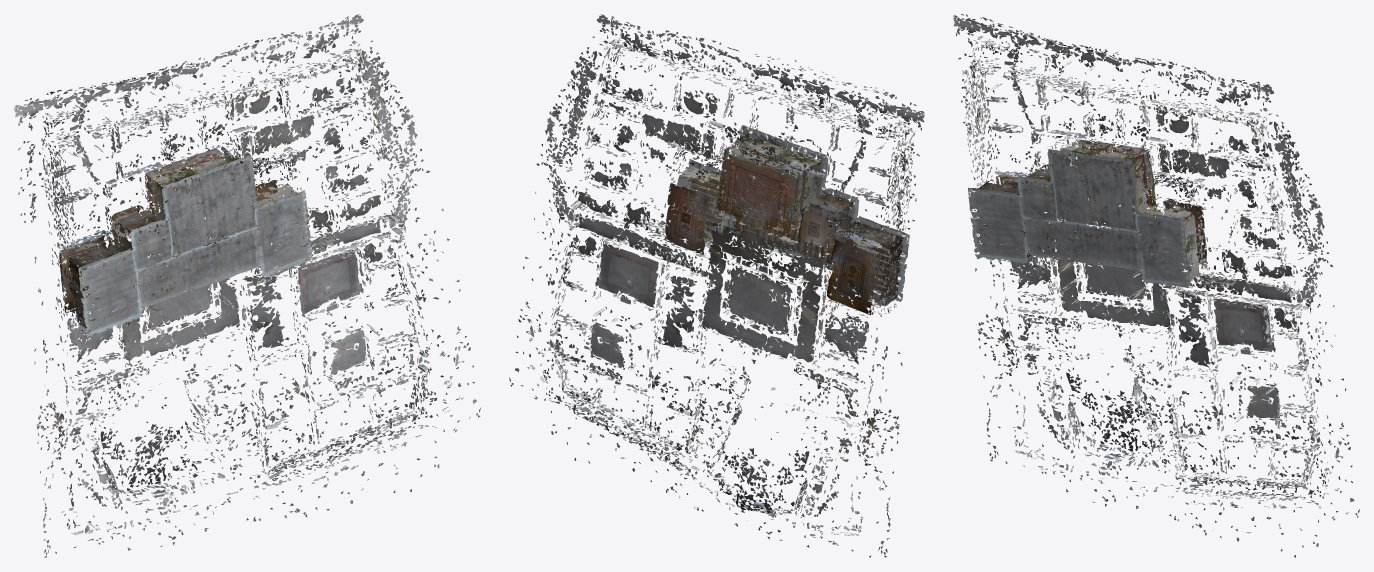
3 views of the same model, side by side, from view 1: azimuth 30°, elevation 25°; view 2: azimuth 150°, elevation 25°; view 3: azimuth 330°, elevation 25° (orthographic). The views are drawn at different scales.
Bounding box in the file's own units: 52.85 × 55.66 × 9.5.
Materials: 1 (1 with a texture image).
